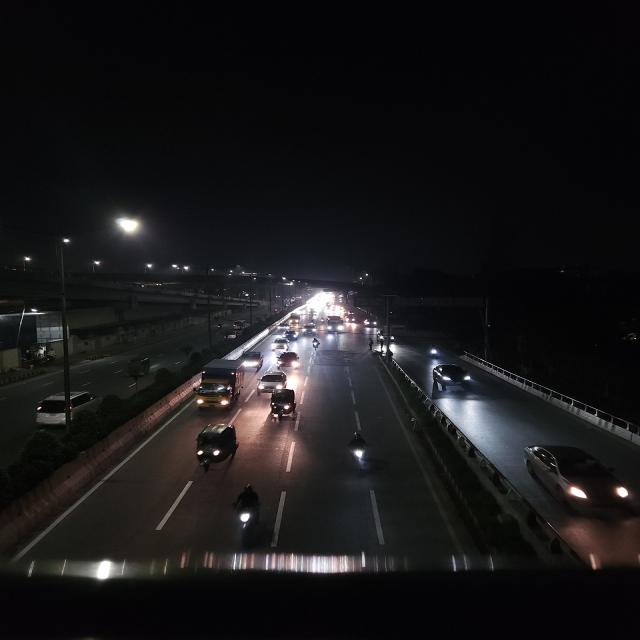bus: (323, 316, 345, 334)
car: (519, 440, 633, 516), (32, 386, 100, 428), (430, 362, 477, 391), (255, 371, 288, 394), (276, 350, 302, 370), (270, 338, 290, 351), (302, 322, 317, 335), (222, 330, 238, 342), (230, 319, 247, 330), (363, 318, 378, 328), (282, 330, 296, 340)
cng: (190, 421, 242, 474), (267, 386, 300, 424), (120, 356, 154, 380)
motorcycle: (228, 482, 265, 546), (343, 429, 377, 476), (425, 343, 440, 359), (309, 338, 321, 350), (214, 321, 224, 331)
pedestrian: (378, 339, 386, 354), (367, 339, 375, 351)
pickup_van: (240, 350, 264, 370)
truck: (192, 358, 246, 414), (287, 314, 301, 324)
